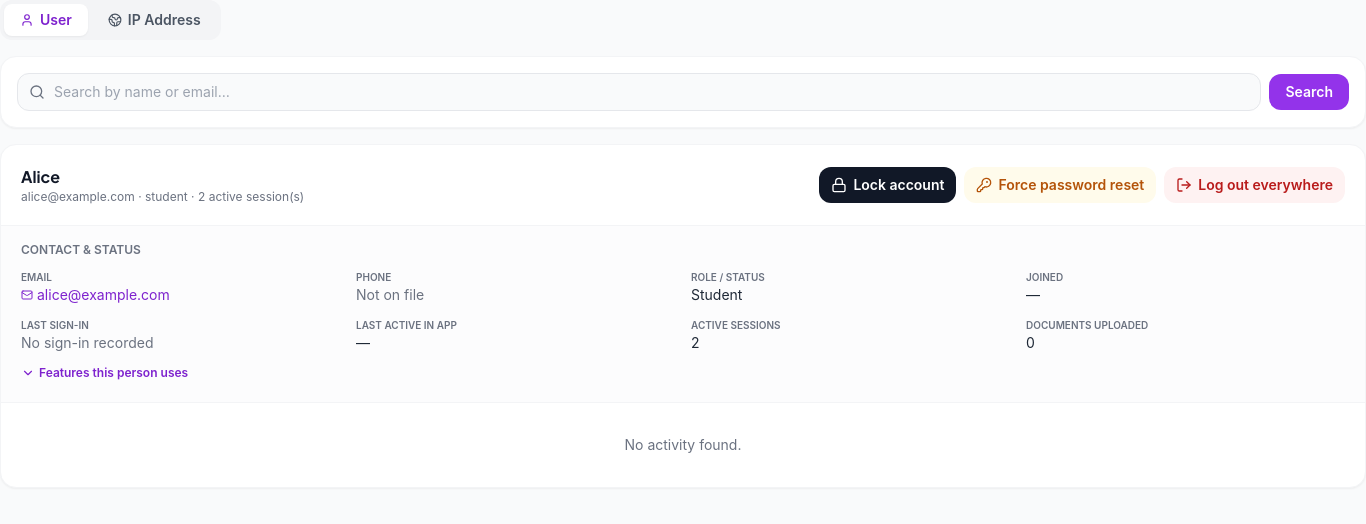
it: InvestigateTab › shows the failure when signing someone out everywhere does not work
The width and height of the screenshot is (1366, 524).
expect the heading "Alice" is shown: met, box [21,166,60,187]
Step 1. Click the button "Log out everywhere" → [1255, 185], box [1164,167,1345,203]
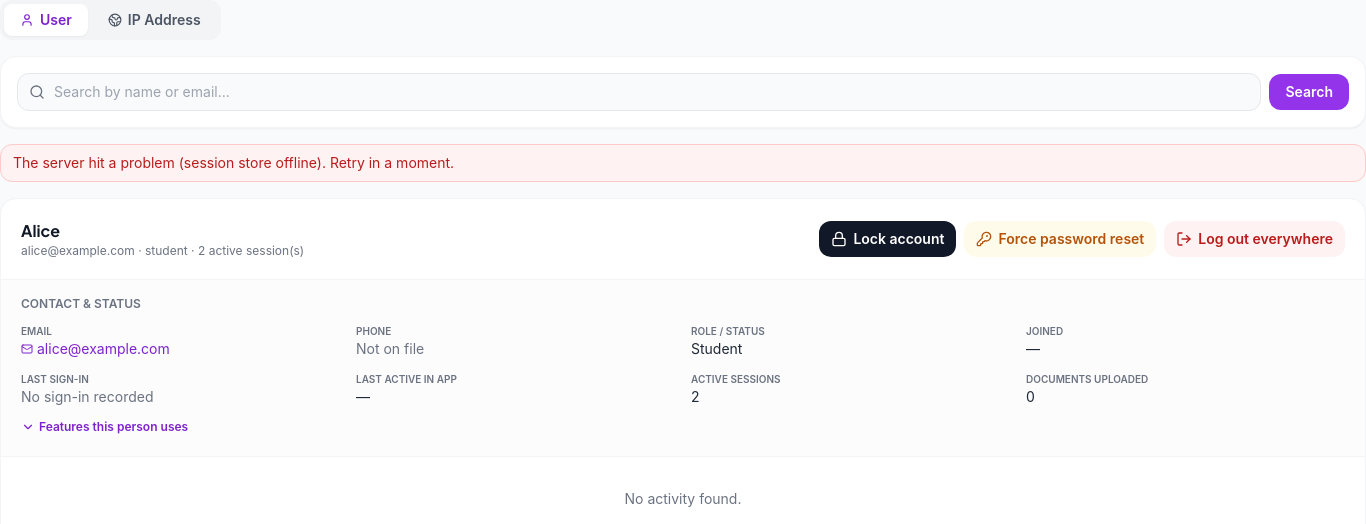
expect the text "session store offline" is shown: met, box [13,154,454,171]
